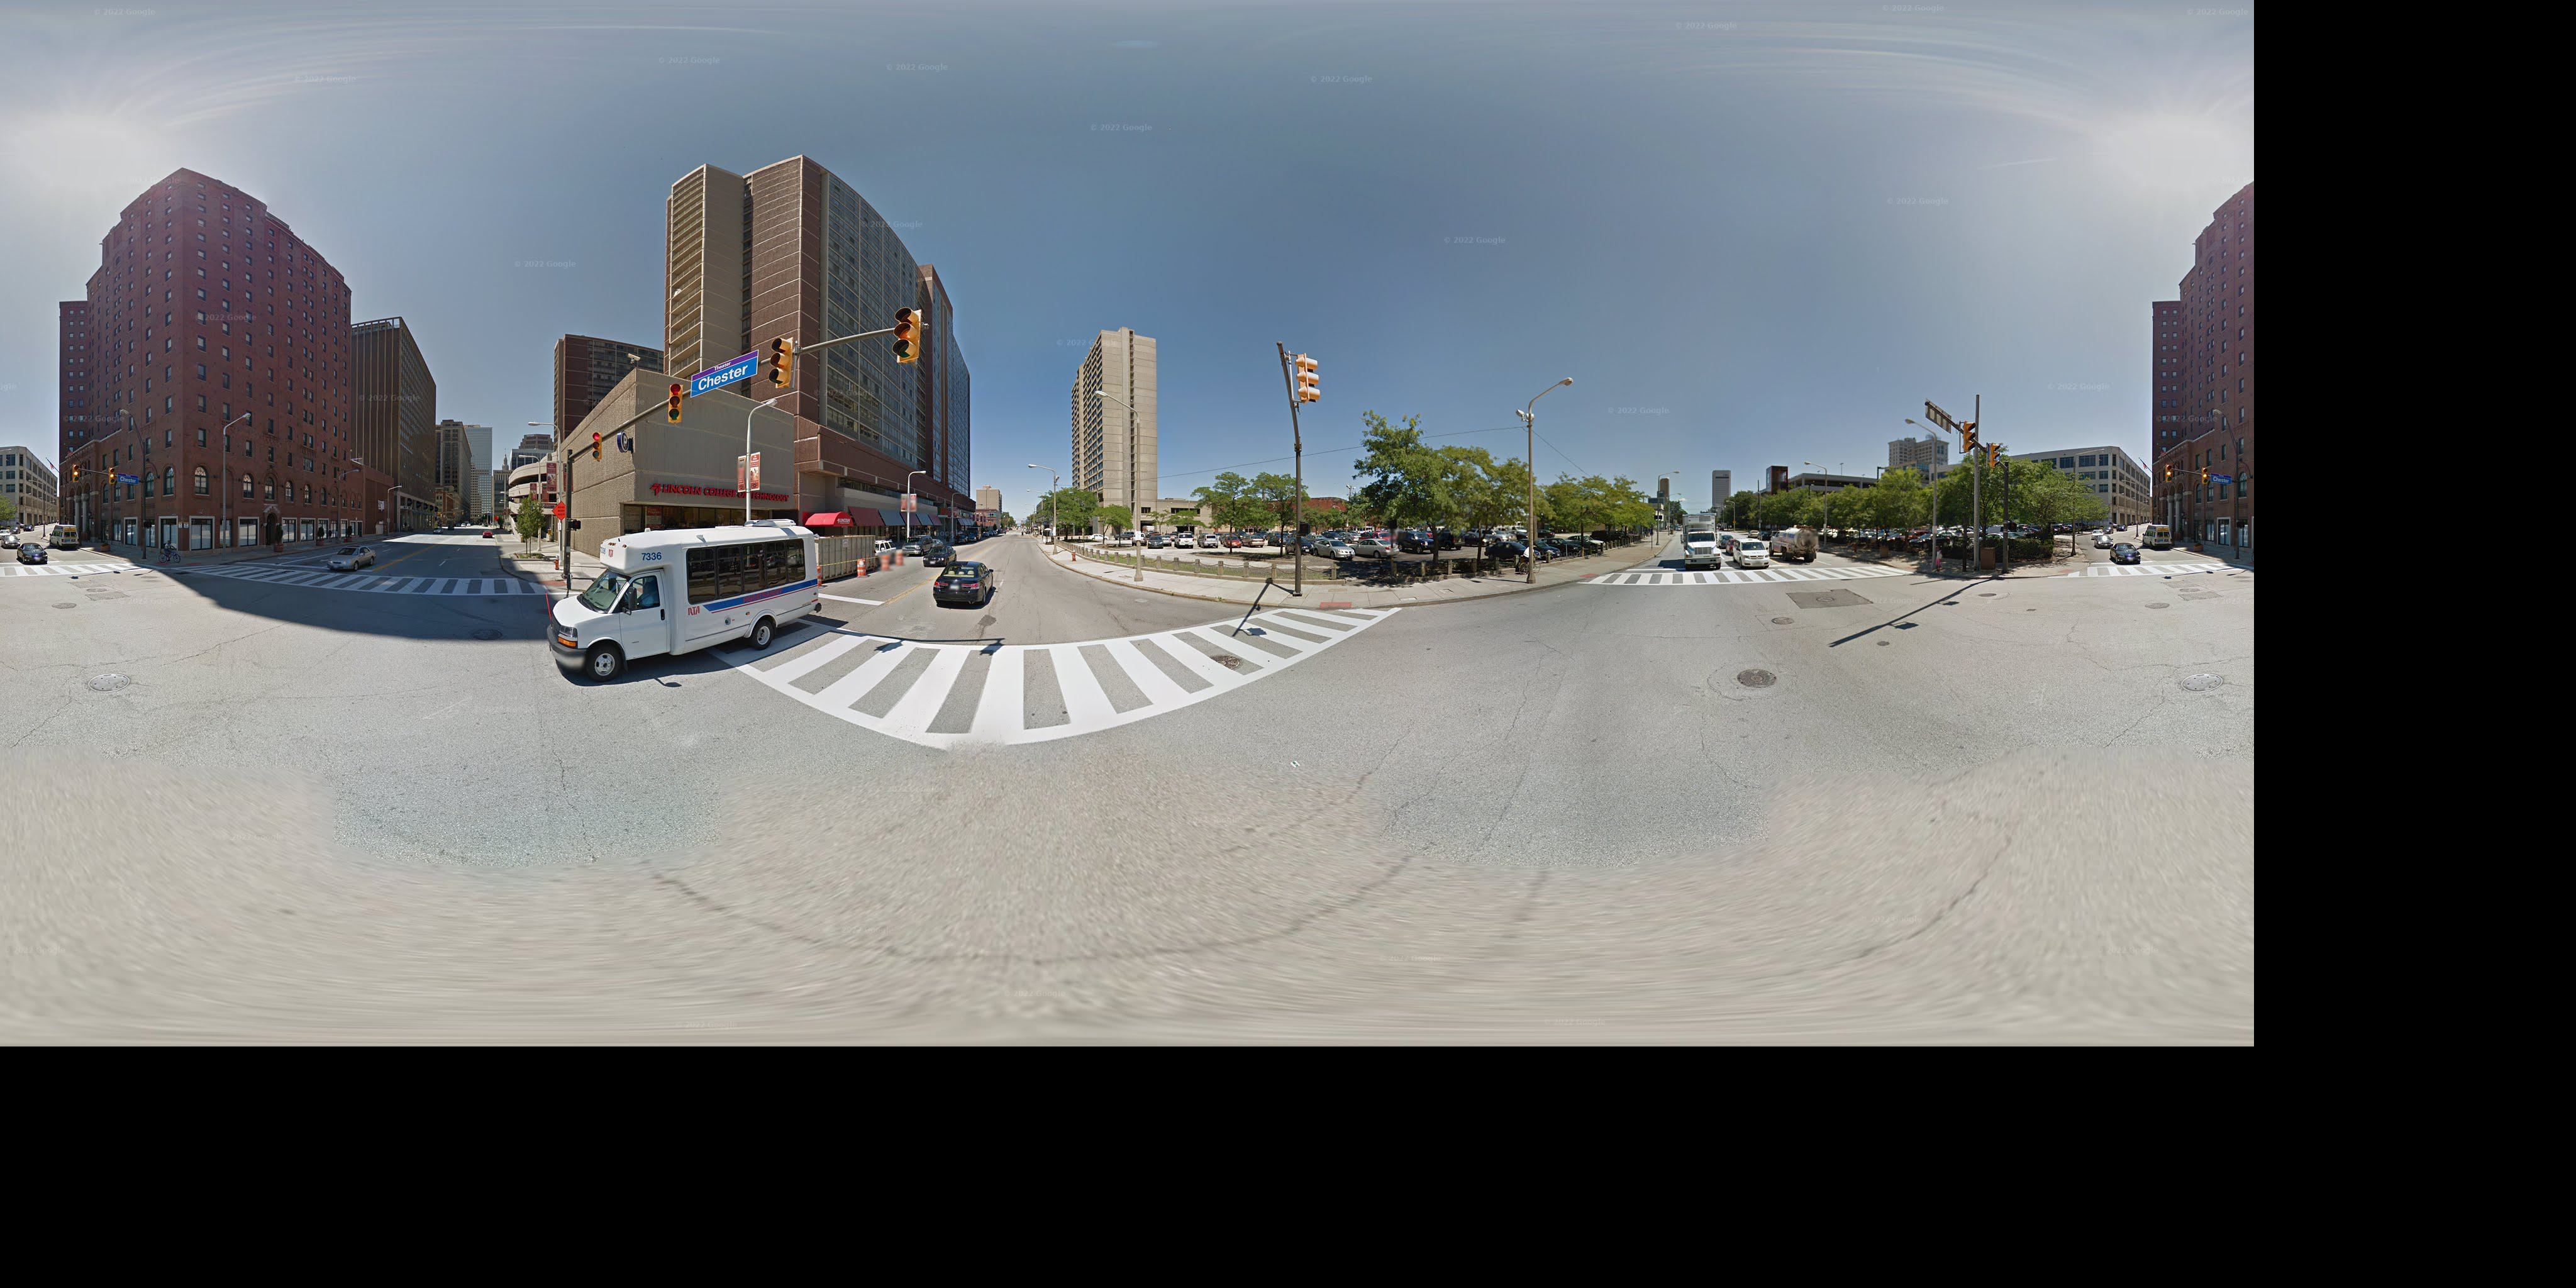Curb Ramp: (1889, 559, 1919, 573), (2055, 562, 2081, 577), (1575, 567, 1600, 578)
Irregular Ramp: (1314, 595, 1355, 616)
